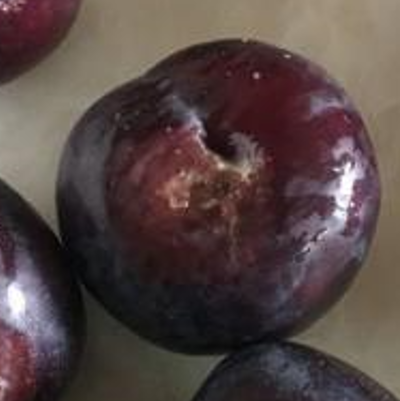plum_C: (56, 39, 381, 356)
